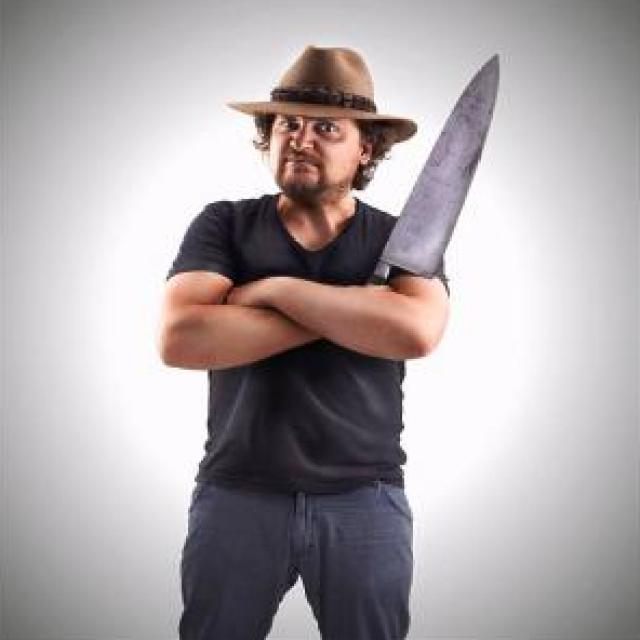knife: (359, 52, 506, 303)
